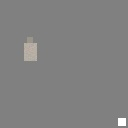supply_truck: (24, 43, 37, 61)
